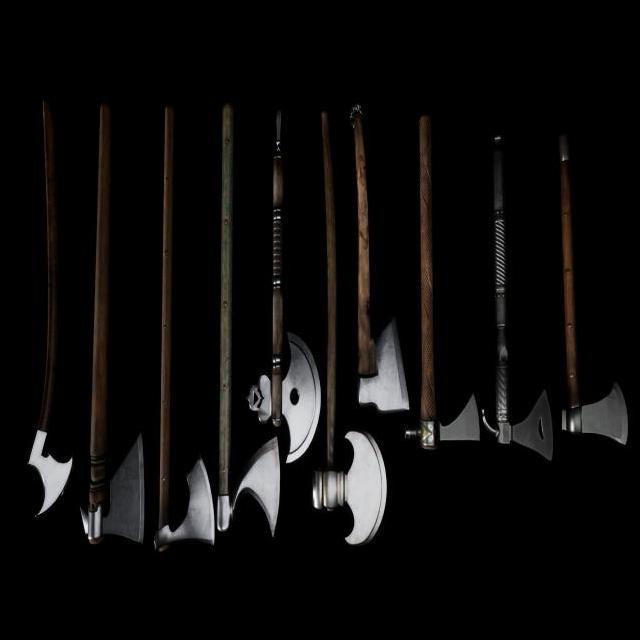axe: (312, 114, 389, 549), (78, 104, 145, 549), (216, 104, 281, 557), (154, 110, 215, 562), (246, 107, 320, 467), (481, 127, 555, 467), (406, 116, 481, 450), (557, 135, 632, 449), (25, 96, 76, 526), (349, 107, 411, 415)
